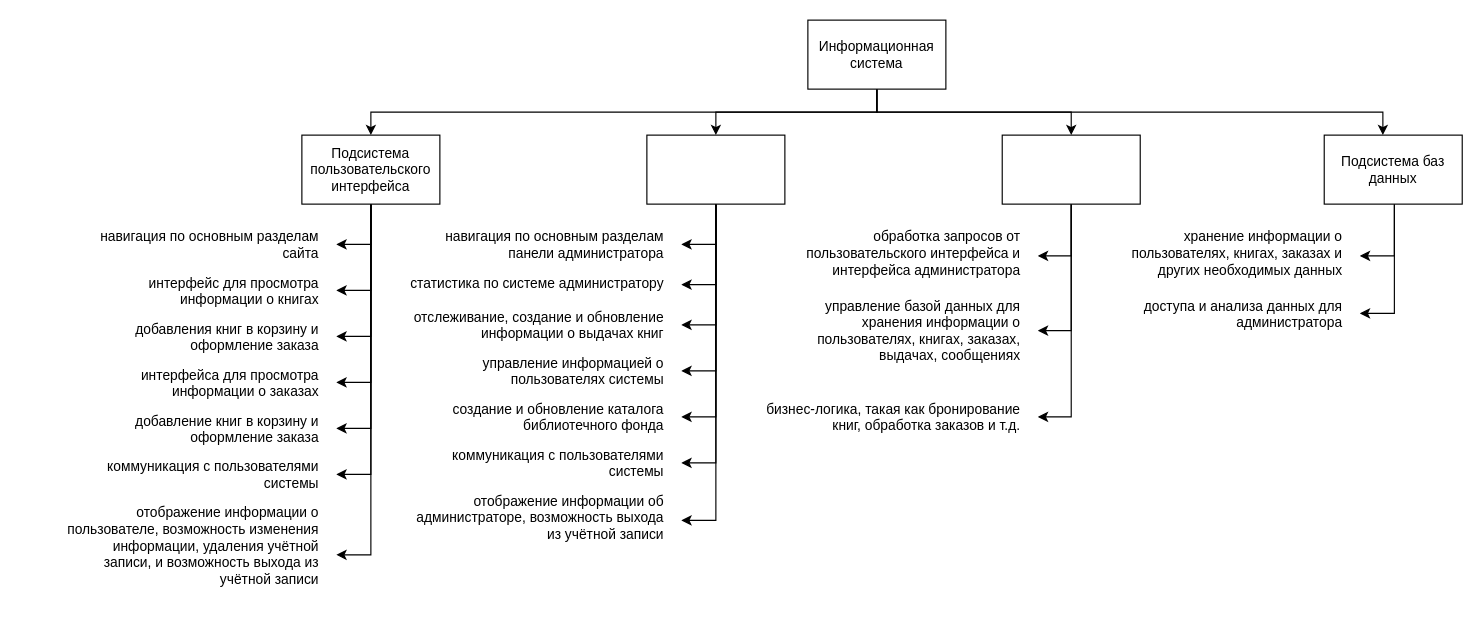
This 1482x627 diagram has some shape labels left out. The shapes that lost their labels are listed below. From the top down, each one's centre as x and y in pixels, then its label:
At point (715, 169): "Подсистема интерфейса администратора".
At point (1070, 169): "Подсистема серверной логики".
